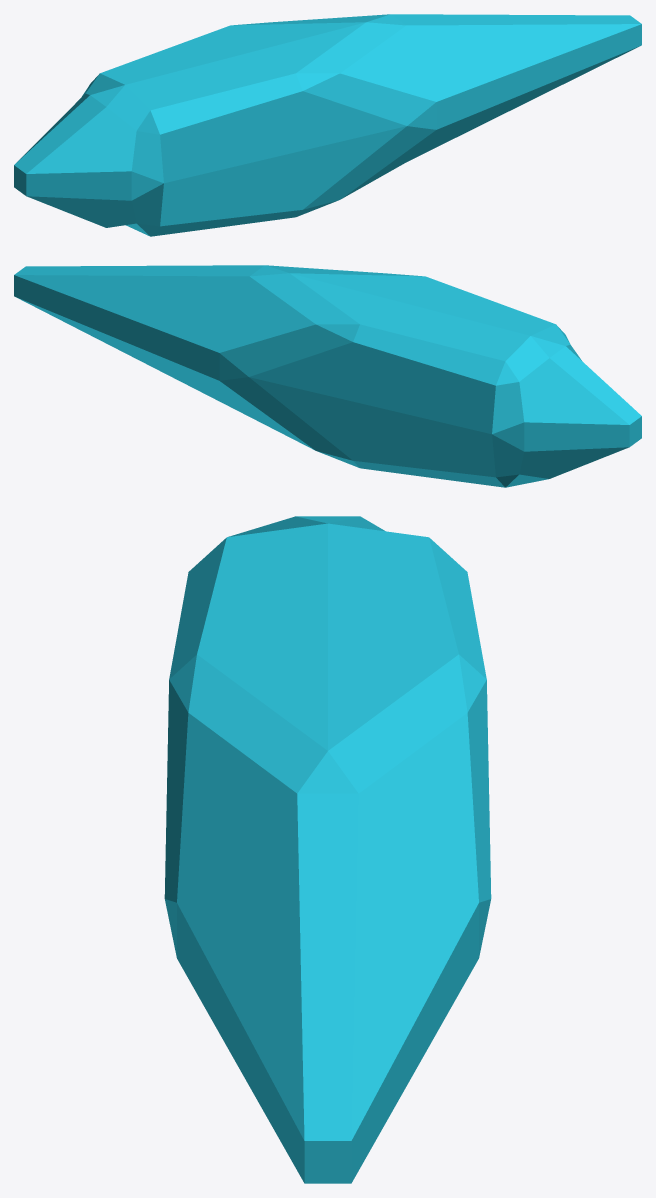
Rendered from Ice.fbx.
3 renders of one model, top to bottom at view 1: azimuth 30°, elevation 25°; view 2: azimuth 150°, elevation 25°; view 3: azimuth 270°, elevation 25°, orthographic. The views are drawn at different scales.
Visible parts, largest first — view 1: Cube; view 2: Cube; view 3: Cube.
Boxes of the visible parts, x1,y1,x2,y2 form: Cube: (14, 14, 641, 236); Cube: (14, 265, 641, 487); Cube: (164, 516, 491, 1183).
Size of the model in its own units: 553 by 127 by 127.
